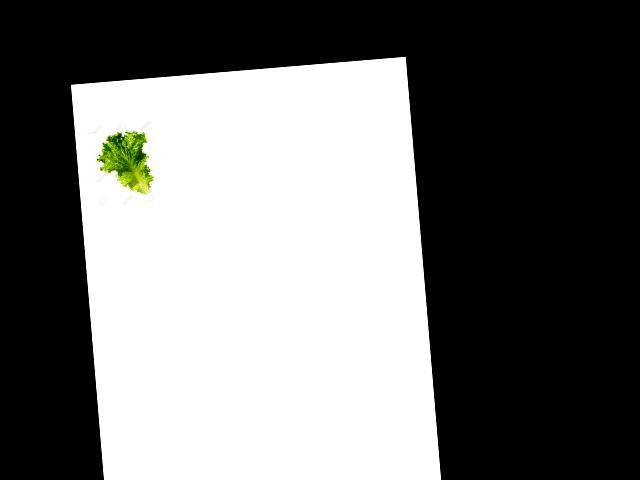lettuce: (95, 129, 151, 199)
